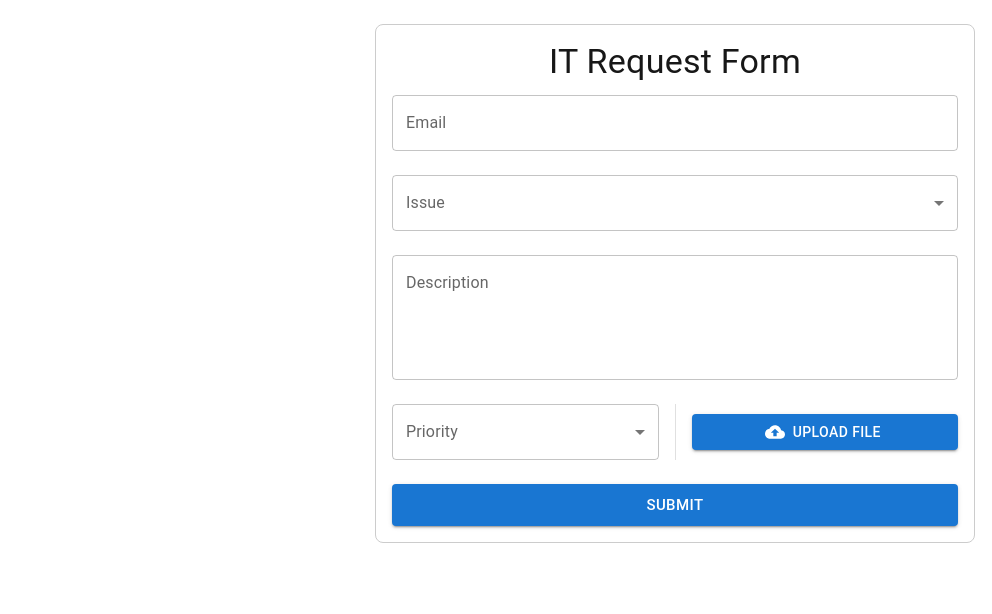
Test case: RequestForm › should show confirmation message when the form is submitted
The width and height of the screenshot is (992, 614).
Type "test@test.com" into the field labelled "Email".
click(675, 123); type("test@test.com")  # box [392,95,958,151]
Click the dropdown named "Issue" next to "Issue".
click(675, 203)  # box [392,175,958,231]
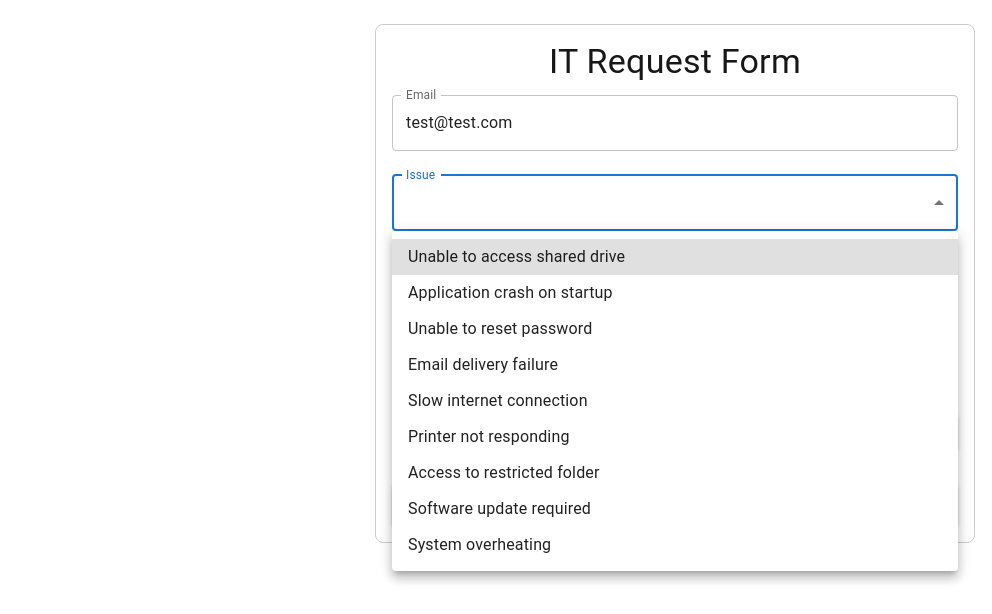
Click the option "Email delivery failure".
click(483, 364)  # box [408,355,558,374]
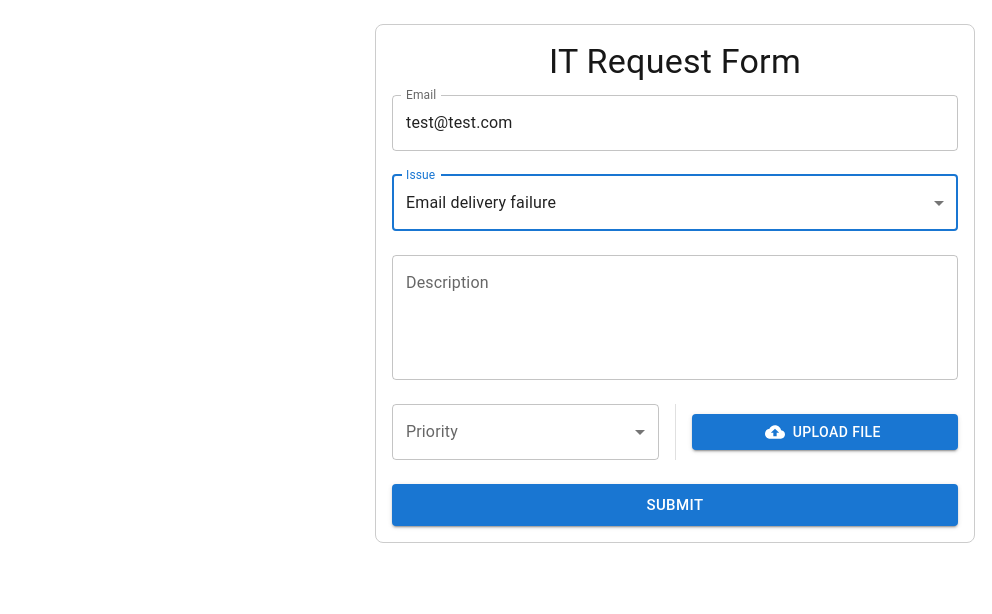
Click the dropdown named "Priority".
click(525, 432)  # box [392,404,658,460]
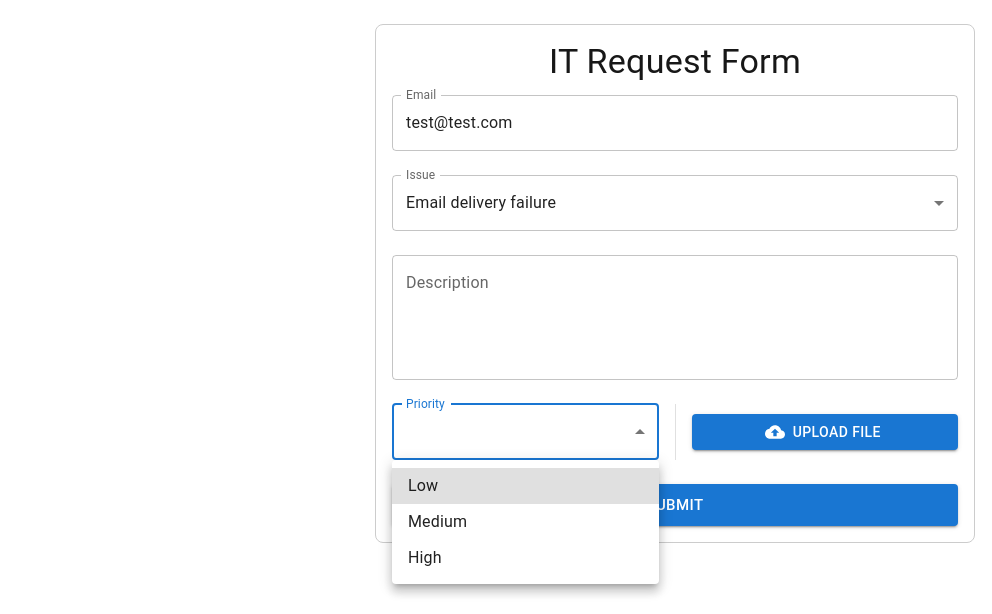
Click the option "High".
click(425, 558)  # box [408,548,442,567]
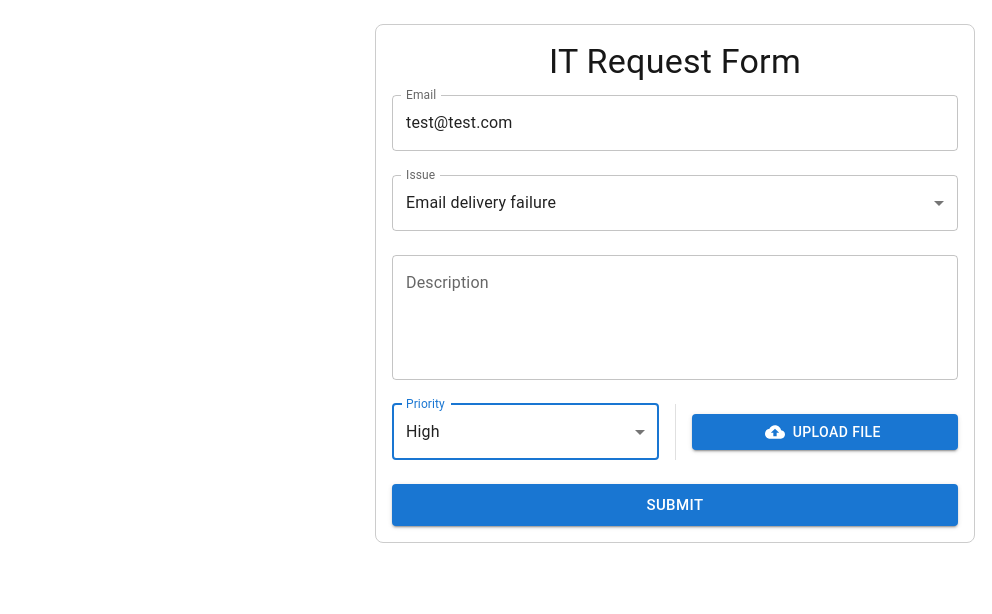
Type "Test description" into the text box labelled "Description".
click(675, 317); type("Test description")  # box [406,271,944,363]
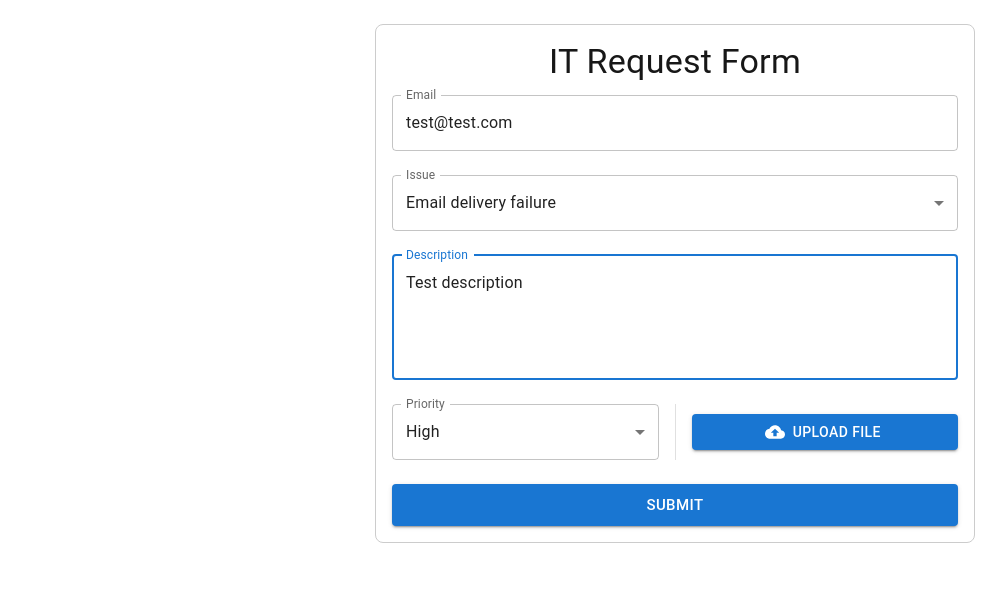
Click the button "Submit".
click(675, 505)  # box [392,484,958,526]
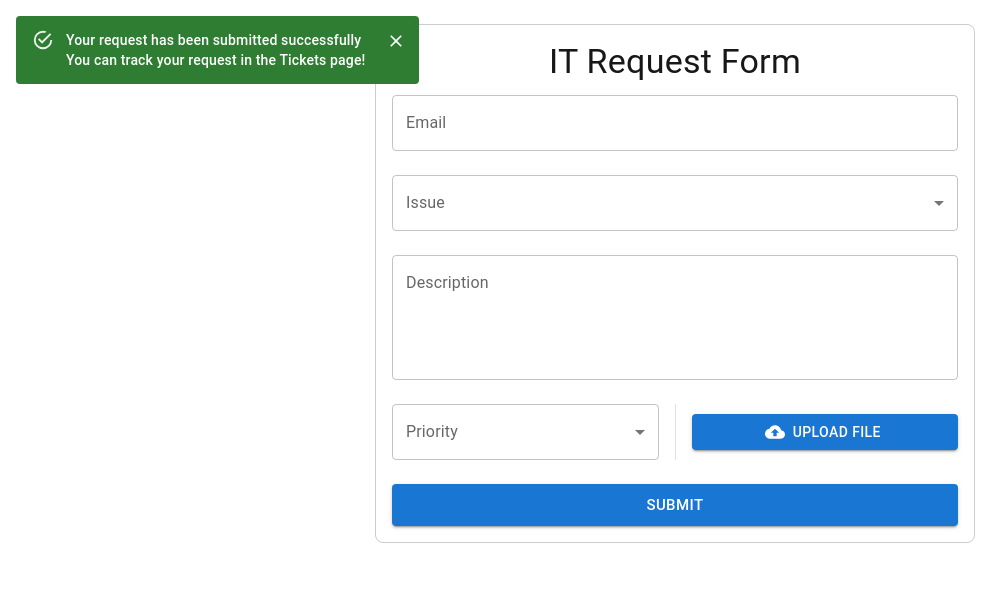
Check: the message with test id "success-it-request-alert" is shown, box [16,16,420,84]
Check: the message with test id "success-it-request-alert" shows "Your request has been submitted successfully", box [66,32,361,48]
Check: the message with test id "success-it-request-alert" shows "You can track your request in the Tickets page!", box [66,52,366,68]
